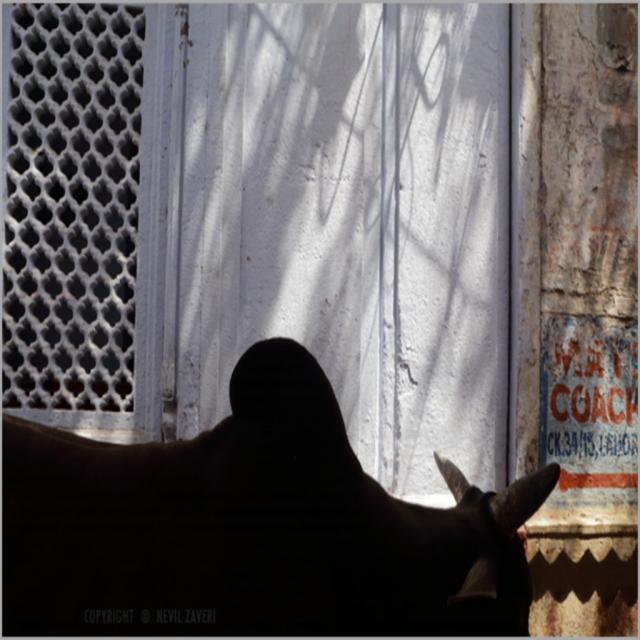Cattle: (0, 334, 558, 638)
